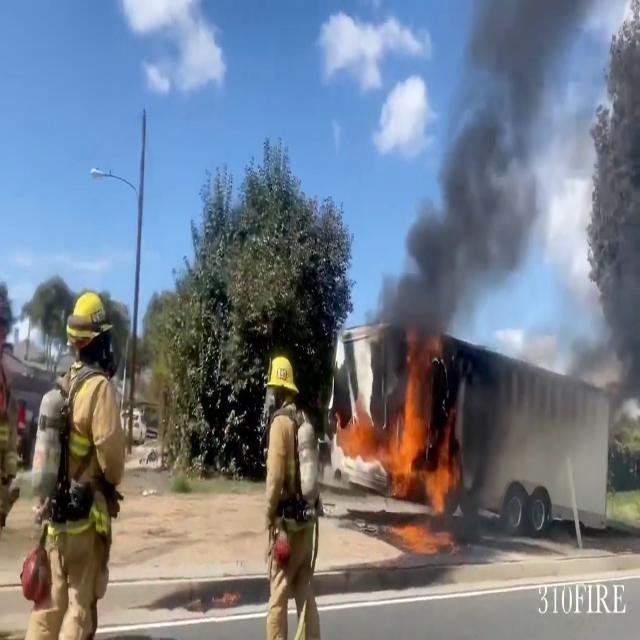Fire: (340, 352, 460, 524)
Smoke: (378, 1, 568, 355)
